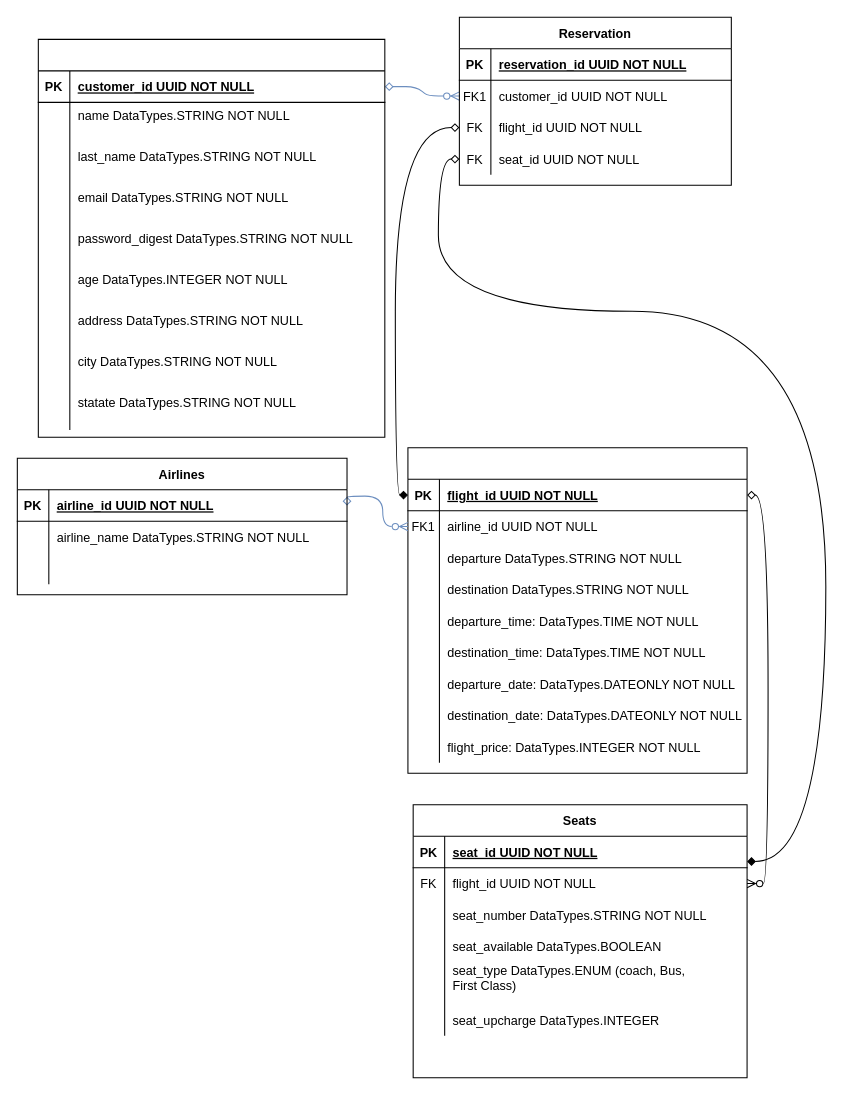
The diagram is 843 pixels wide and 1095 high, and some of its shapes have lost their labels. Here are the shapes that lost their labels. From the top down, the box of each, then its label:
(37, 38, 385, 437): Customers
(407, 447, 747, 773): Flights
